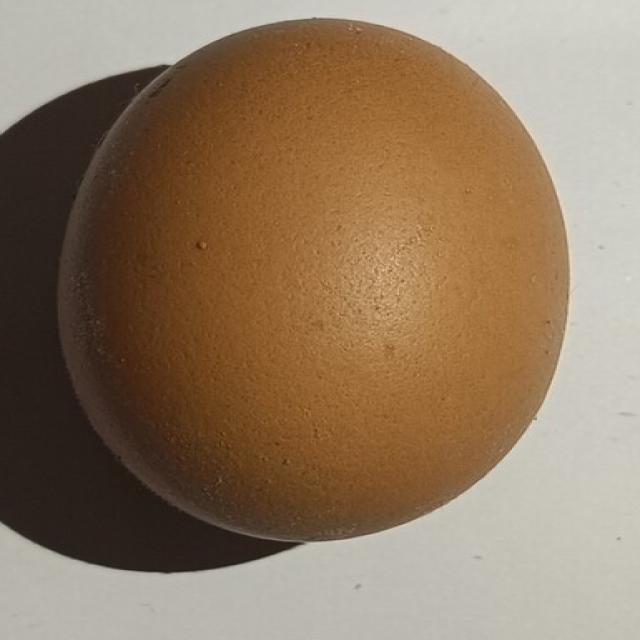fresh: (41, 2, 571, 544)
